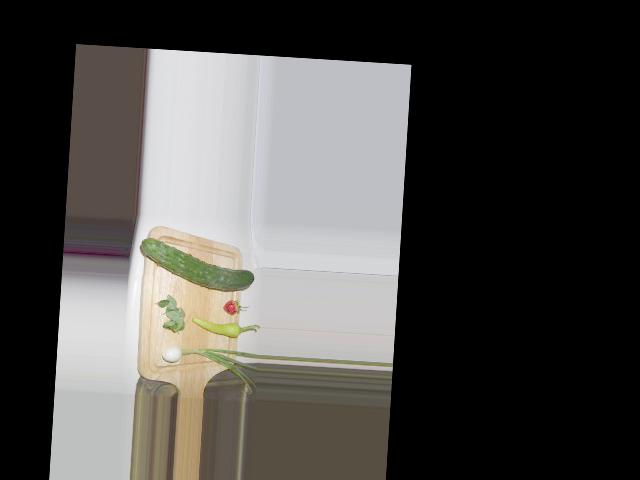cucumber: (138, 237, 255, 292)
